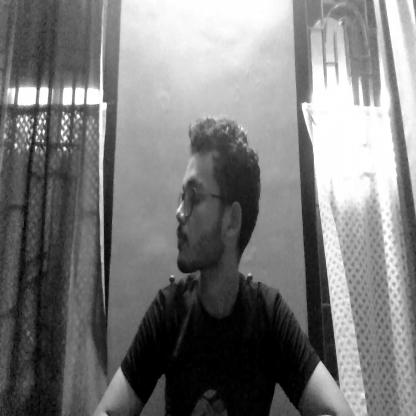Distracted: (171, 110, 254, 284)
